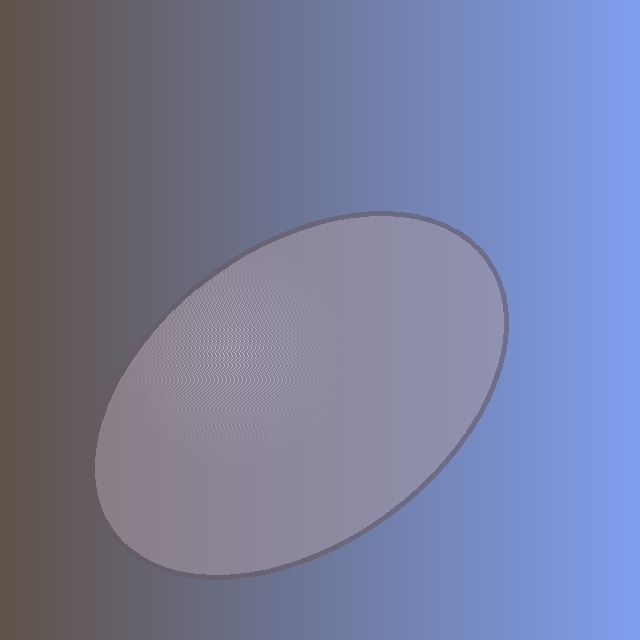lens: (93, 213, 505, 577)
